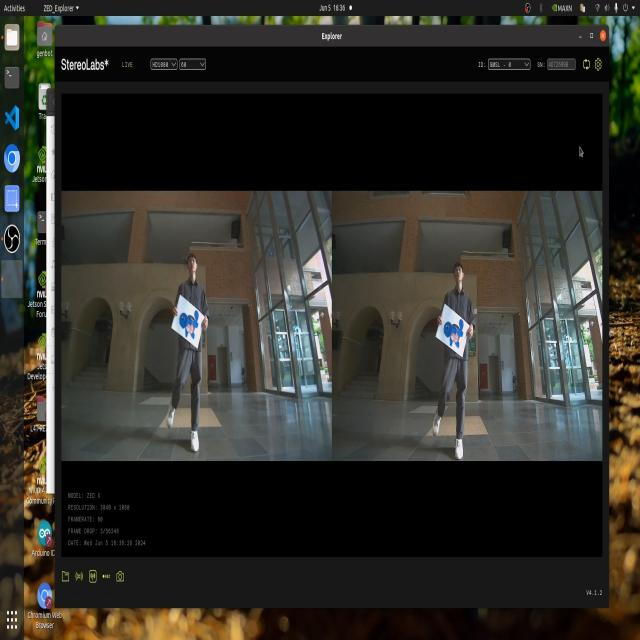blue: (170, 304, 203, 348), (440, 314, 471, 357)
